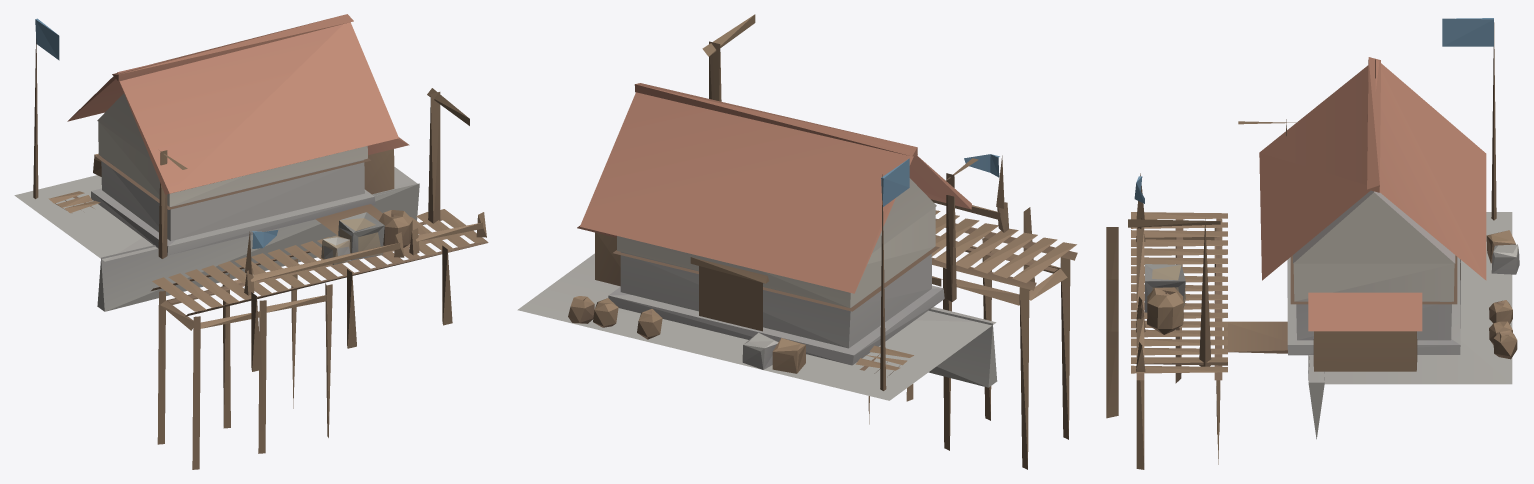
Rendered from trading_post.l4.lite.glb.
3 renders of one model, left to right at view 1: azimuth 30°, elevation 25°; view 2: azimuth 150°, elevation 25°; view 3: azimuth 270°, elevation 25°, orthographic. The views are drawn at different scales.
Visible parts, largest first — view 1: trading_post; view 2: trading_post; view 3: trading_post.
Boxes of the visible parts, <box> form: trading_post: <box>14,14,488,469</box>; trading_post: <box>517,14,1077,469</box>; trading_post: <box>1106,18,1519,469</box>.
Bounding box in the file's own units: 3.96 × 4.09 × 4.01.
